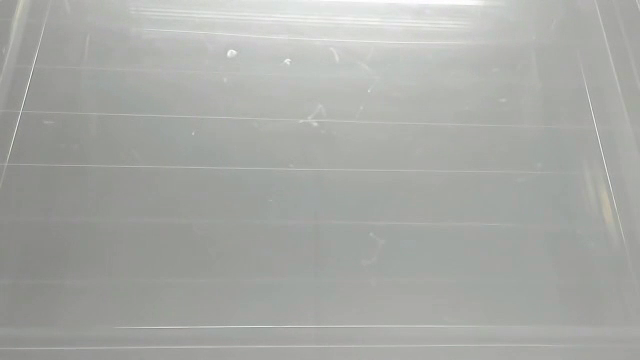alpha: (221, 44, 243, 63)
